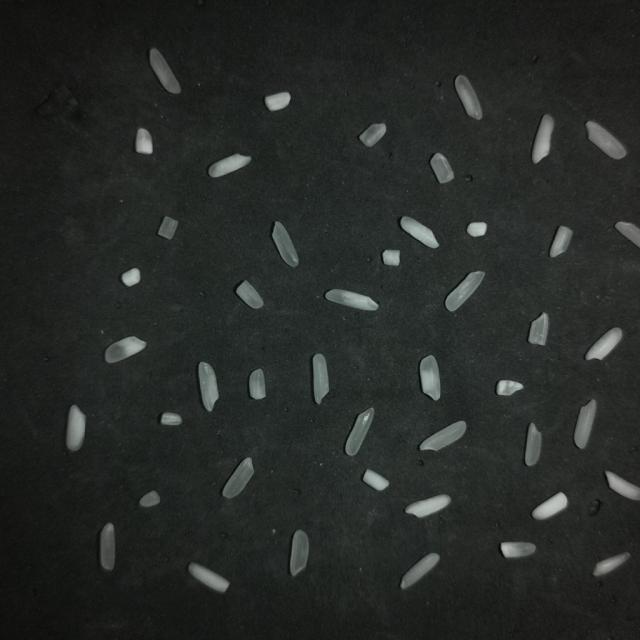broken: (236, 281, 263, 309), (430, 153, 454, 183), (525, 423, 541, 466), (529, 312, 548, 345), (359, 124, 386, 147), (615, 222, 639, 247), (249, 369, 266, 399), (158, 217, 178, 239), (496, 380, 523, 396), (139, 490, 160, 508)
chalky: (188, 563, 229, 593), (400, 217, 439, 248), (455, 75, 482, 119), (325, 289, 378, 311), (585, 328, 622, 359), (532, 114, 554, 164), (105, 337, 146, 363), (405, 495, 451, 518), (605, 471, 639, 501), (209, 154, 251, 178), (532, 492, 568, 519), (66, 405, 86, 451), (420, 355, 440, 400), (593, 552, 630, 576), (550, 226, 573, 258), (500, 542, 536, 558), (363, 469, 389, 491), (265, 92, 291, 111), (135, 129, 153, 154), (121, 268, 140, 286), (160, 412, 182, 426), (467, 222, 487, 237), (382, 250, 399, 266)
whole: (445, 272, 484, 311), (585, 122, 626, 159), (149, 49, 181, 94), (345, 407, 374, 456), (400, 553, 439, 589), (420, 421, 466, 451), (222, 457, 254, 498), (272, 222, 298, 267), (574, 399, 596, 448), (199, 362, 219, 411), (290, 530, 309, 576), (312, 354, 329, 404), (100, 523, 115, 570)
